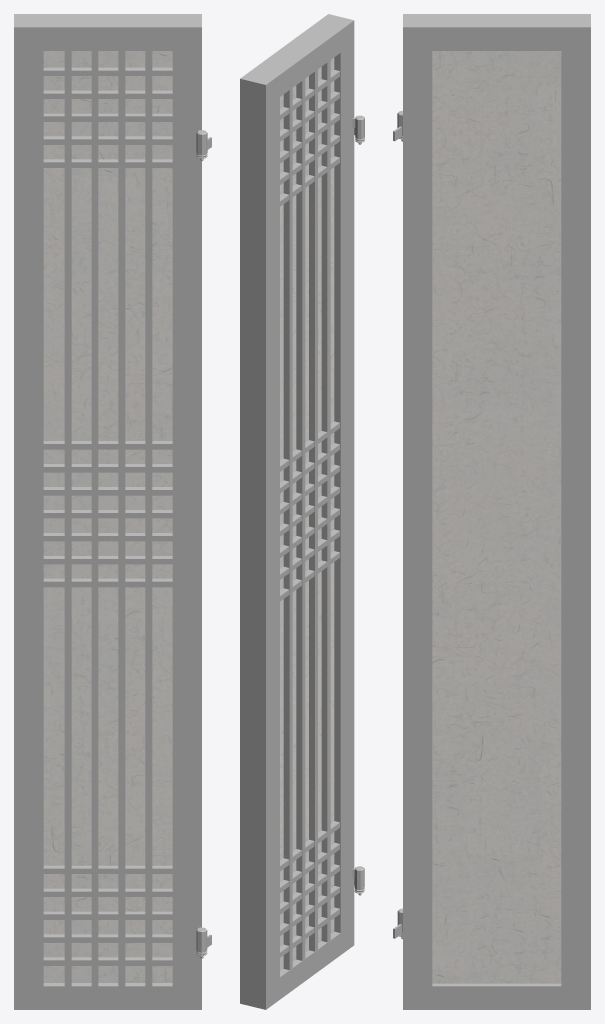
Rendered from SM_GlassDoor01I-b.fbx.
The picture shows the model from 3 angles, left to right: view 1: azimuth 90°, elevation 25°; view 2: azimuth 150°, elevation 25°; view 3: azimuth 270°, elevation 25°; orthographic projection. The views are drawn at different scales.
Parts seen in each view (by area): view 1: SM_GlassDoor01I-b; view 2: SM_GlassDoor01I-b; view 3: SM_GlassDoor01I-b.
Part boxes in pixels (box(x1,y1,x2,y2)): SM_GlassDoor01I-b: box(14, 14, 211, 1009); SM_GlassDoor01I-b: box(240, 14, 364, 1009); SM_GlassDoor01I-b: box(393, 14, 590, 1009).
Size of the model in its own units: 6.56 by 29.42 by 161.
